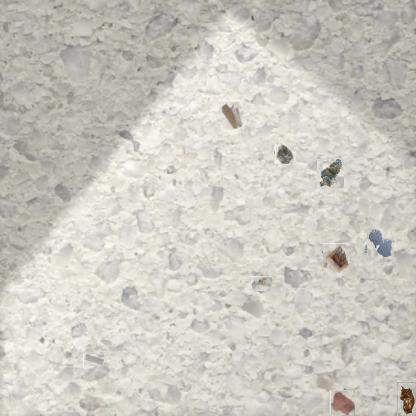dirty: (316, 158, 344, 188), (322, 243, 348, 274), (220, 100, 244, 131), (397, 382, 415, 416), (275, 143, 295, 164), (251, 274, 270, 293), (83, 354, 104, 366)
liquid: (366, 230, 394, 258), (330, 390, 355, 415)
